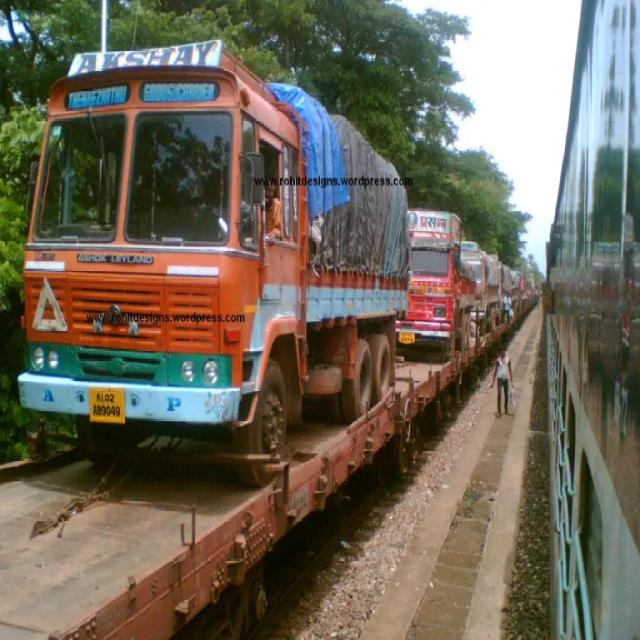Plate: (89, 385, 126, 422)
truck: (30, 53, 408, 486)
